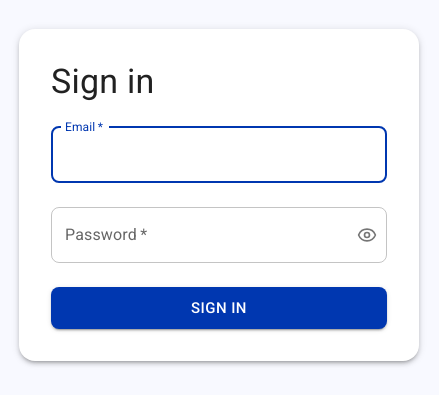
Test: Login › will not submit while the password is missing
This screenshot has width=439, height=395.
Type "person@example.com" into the field labelled "Email *" at (219, 155), box [51, 127, 387, 183]
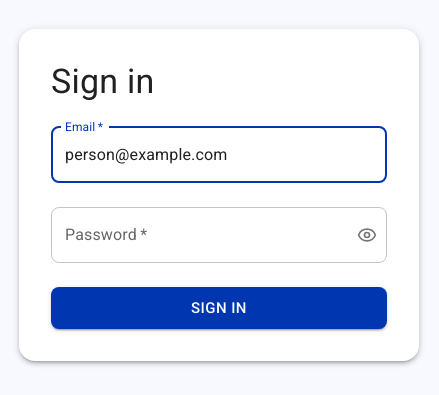
Click the button "Sign in" at (219, 308), box [51, 287, 387, 329]
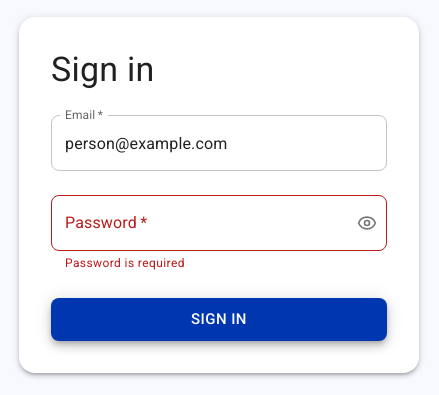
Check: the text "Password is required" is shown, box [65, 256, 185, 270]
